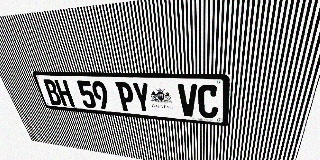5: (76, 80, 97, 108)
9: (90, 81, 111, 110)
B: (42, 79, 63, 105)
C: (198, 84, 219, 119)
H: (54, 80, 75, 107)
P: (115, 82, 136, 112)
V: (178, 84, 198, 117)
Y: (131, 82, 152, 113)
